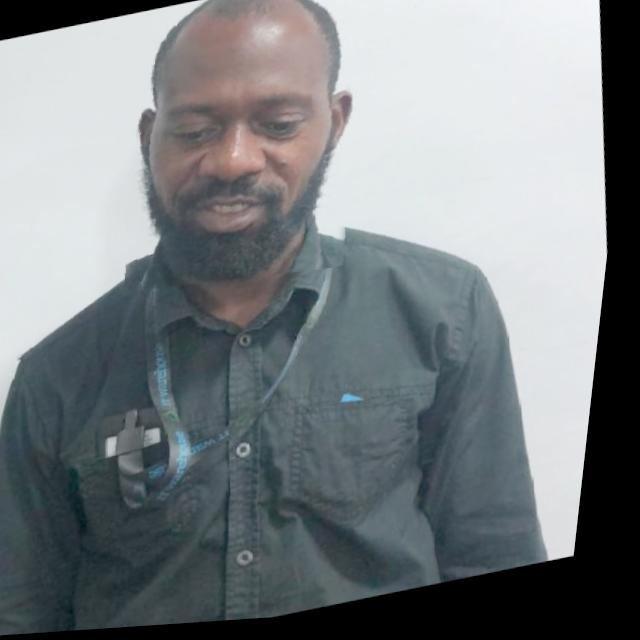happy: (96, 0, 394, 309)
